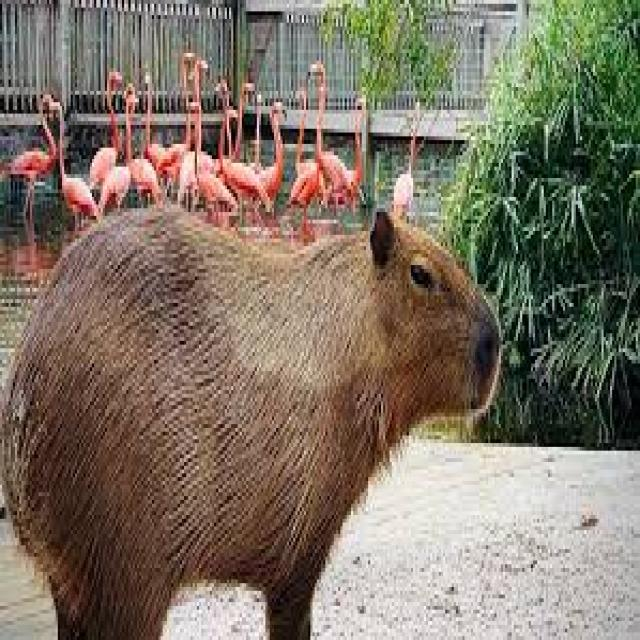capy: (2, 200, 501, 640)
